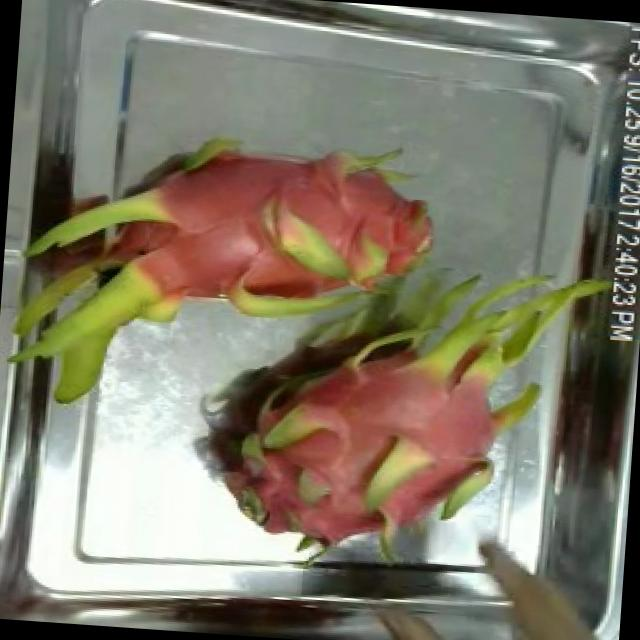Fruit: (481, 584, 621, 640)
